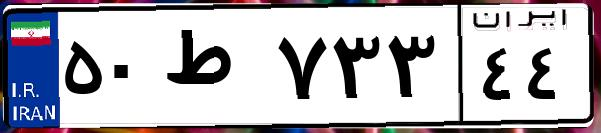0: (110, 28, 158, 98)
3: (385, 28, 445, 110), (330, 28, 385, 110)
4: (475, 38, 525, 113), (525, 38, 570, 115)
5: (57, 26, 110, 100)
7: (270, 28, 330, 110)
ط: (158, 20, 270, 120)
